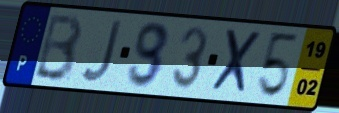3: (170, 24, 211, 93)
5: (254, 32, 302, 100)
9: (125, 20, 173, 91)
B: (31, 13, 85, 84)
J: (79, 18, 125, 85)
X: (208, 27, 264, 98)
